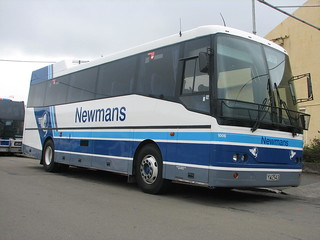bus: (21, 23, 305, 194), (1, 97, 25, 156)
